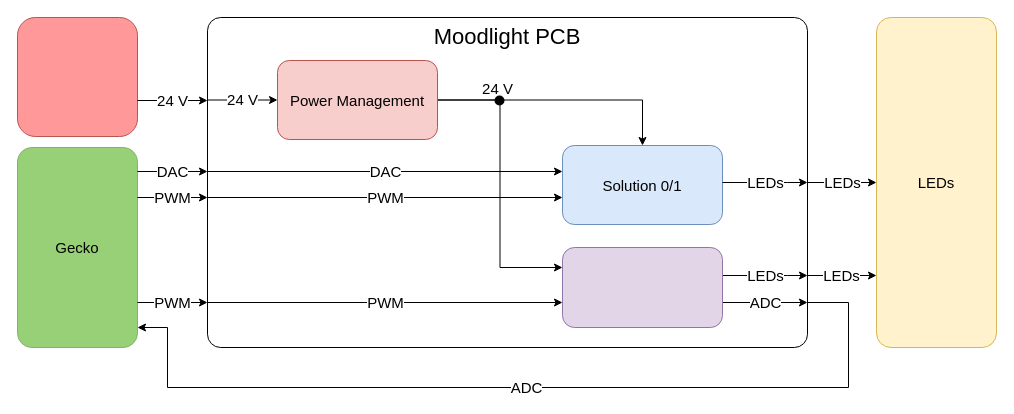
Some shapes in this 1014 by 414 pixel diagram are drawn without their labels. The shapes that lost their labels are listed below. From the top down, each one's centre as x and y in pixels, then its label:
At point (77, 76): "Power Supply".
At point (642, 287): "Solution 2".
